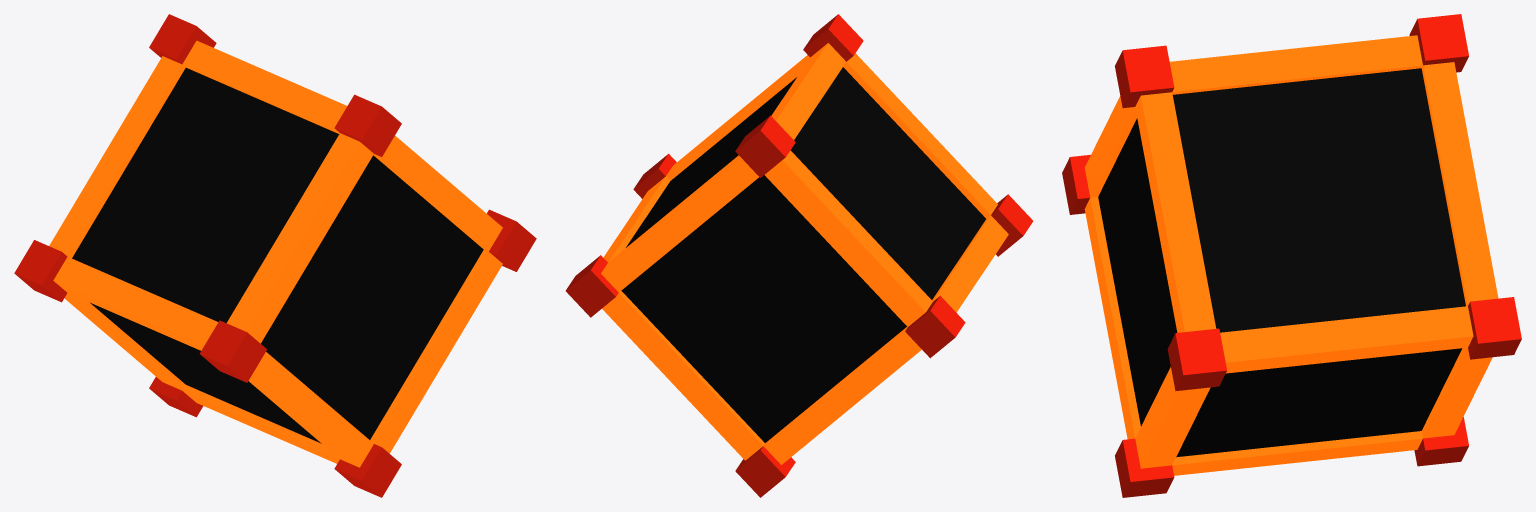
File: CUDN_Item_Black.fbx
3 renders of one model, left to right at view 1: azimuth 30°, elevation 25°; view 2: azimuth 150°, elevation 25°; view 3: azimuth 270°, elevation 25°, orthographic. The views are drawn at different scales.
Parts seen in each view (by area): view 1: Item_black; view 2: Item_black; view 3: Item_black.
Boxes of the visible parts, <box> form: Item_black: <box>14,14,536,497</box>; Item_black: <box>565,14,1033,497</box>; Item_black: <box>1062,14,1521,497</box>.
Size of the model in its own units: 105 by 91.64 by 85.31.
